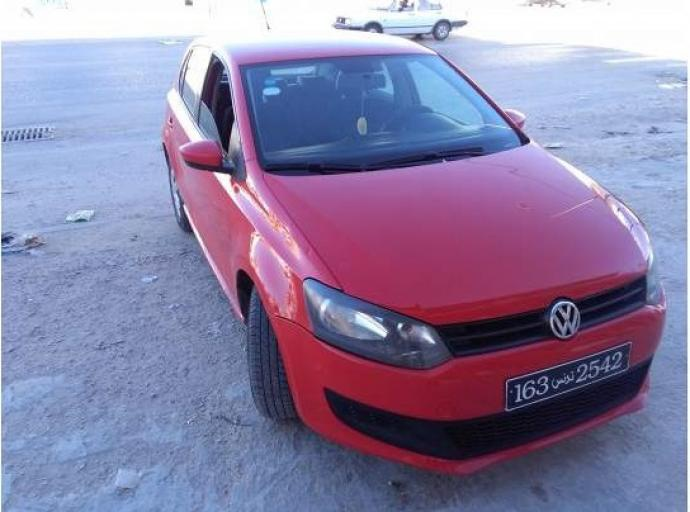LP: (500, 341, 641, 413)
